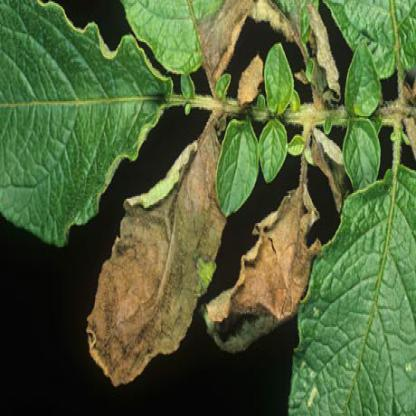Potato leaf late blight: (80, 109, 231, 390), (201, 178, 324, 354), (189, 2, 338, 92)
